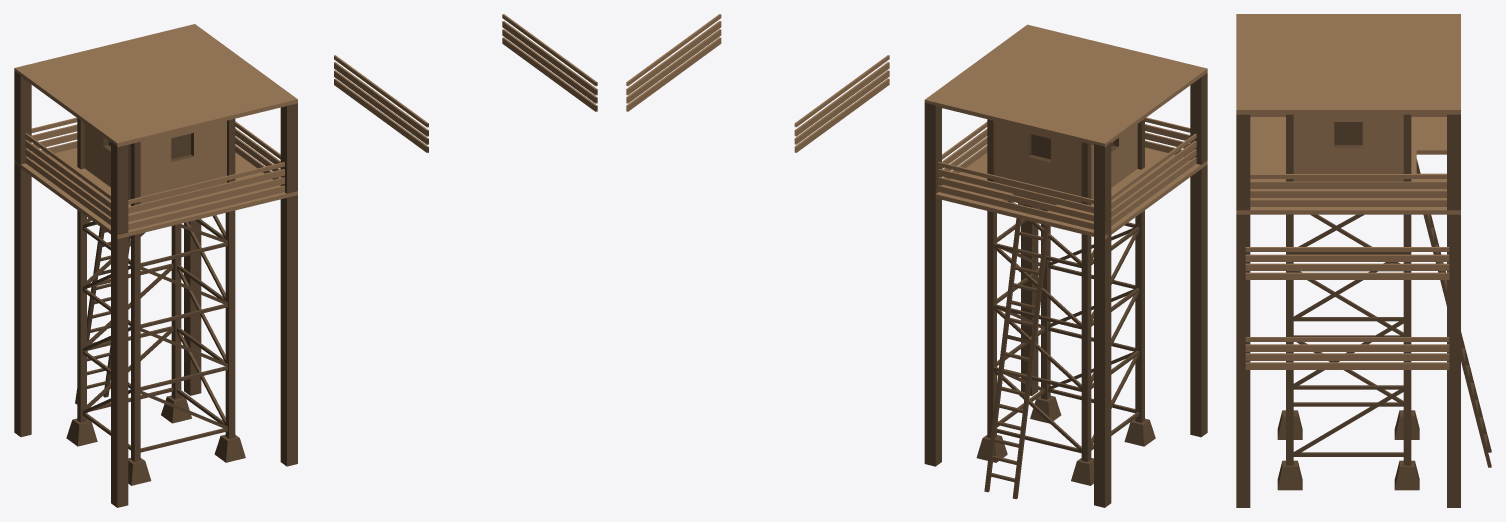
The model's file is watchtower.fbx.
3 views of the same model, side by side, from view 1: azimuth 30°, elevation 25°; view 2: azimuth 150°, elevation 25°; view 3: azimuth 270°, elevation 25° (orthographic). The views are drawn at different scales.
Visible parts, largest first — view 1: Box034, Plane002, Box033, Plane005, Box037, Plane003, Box036, Box035, Box035.001, Box032, Plane006, Box045 (+9 smaller); view 2: Box034, Plane002, Box033, Plane004, Box045, Box038, Plane003, Box035, Box036, Box035.001, Box032, Plane006 (+9 smaller); view 3: Plane002, Box034, Plane007, Plane003, Box036, Box035, Box036.001, Box033, Box032, Box045, Box010, Box042 (+6 smaller).
Part boxes in pixels (x1,y1,x2,y2): Box034: [14, 71, 297, 507]; Plane002: [14, 24, 297, 147]; Box033: [77, 118, 235, 461]; Plane005: [140, 120, 226, 203]; Box037: [128, 162, 284, 230]; Plane003: [14, 148, 297, 238]; Box036: [502, 14, 597, 111]; Box035: [334, 55, 428, 152]; Box035.001: [25, 133, 110, 225]; Box032: [66, 395, 245, 485]; Plane006: [84, 124, 130, 199]; Box045: [75, 227, 130, 404]; Box034: [924, 73, 1207, 507]; Plane002: [924, 24, 1207, 147]; Box033: [987, 119, 1144, 461]; Plane004: [995, 121, 1081, 203]; Box045: [984, 203, 1049, 499]; Box038: [938, 162, 1093, 229]; Plane003: [935, 147, 1207, 239]; Box035: [794, 55, 889, 152]; Box036: [626, 14, 721, 111]; Box035.001: [1111, 134, 1196, 225]; Box032: [976, 395, 1155, 485]; Plane006: [1091, 124, 1137, 199]; Plane002: [1236, 14, 1460, 114]; Box034: [1236, 114, 1460, 507]; Plane007: [1293, 114, 1403, 181]; Plane003: [1236, 117, 1460, 214]; Box036: [1245, 337, 1449, 369]; Box035: [1245, 247, 1449, 279]; Box036.001: [1250, 174, 1446, 206]; Box033: [1286, 114, 1411, 465]; Box032: [1277, 410, 1419, 490]; Box045: [1416, 159, 1491, 467]; Box010: [1293, 402, 1403, 456]; Box042: [1293, 342, 1403, 456].
Bounding box in the file's own units: 1201 × 864 × 503.
